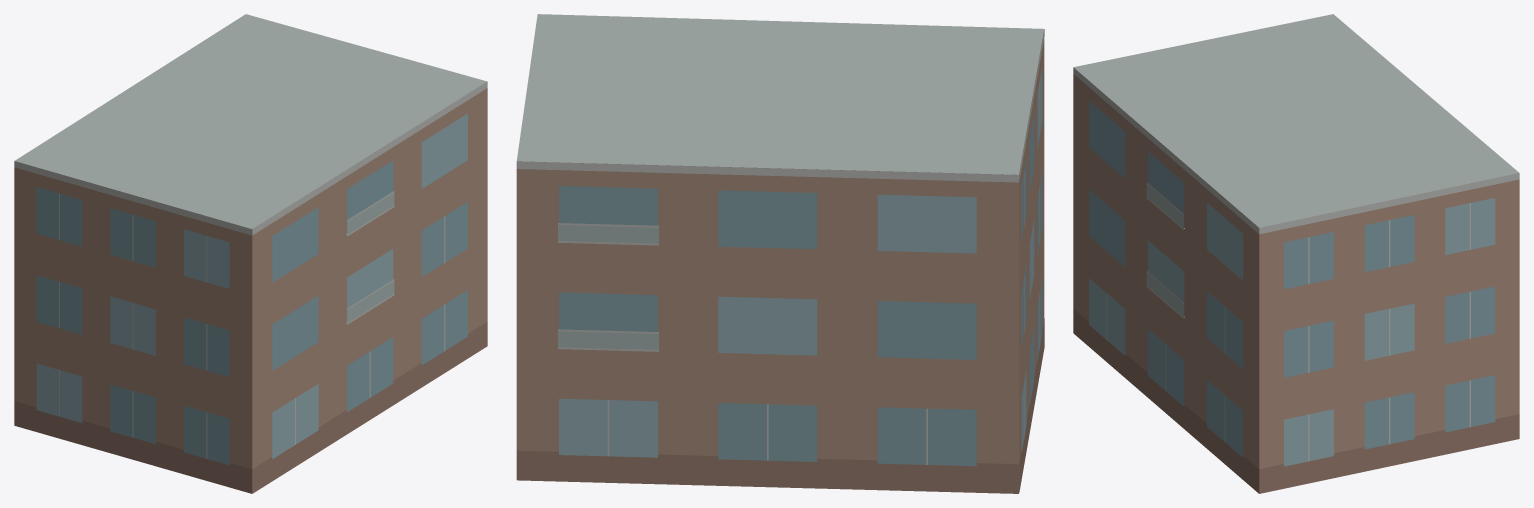
File: survey-upis-32739224.glb
The picture shows the model from 3 angles, left to right: view 1: azimuth 30°, elevation 25°; view 2: azimuth 150°, elevation 25°; view 3: azimuth 270°, elevation 25°; orthographic projection. The views are drawn at different scales.
Visible parts, largest first — view 1: survey-upis-32739224.tmp; view 2: survey-upis-32739224.tmp; view 3: survey-upis-32739224.tmp.
Part boxes in pixels (x1,y1,x2,y2): survey-upis-32739224.tmp: [14, 14, 487, 493]; survey-upis-32739224.tmp: [516, 14, 1044, 493]; survey-upis-32739224.tmp: [1073, 14, 1519, 493].
Size of the model in its own units: 17.43 by 10.1 by 15.37.
